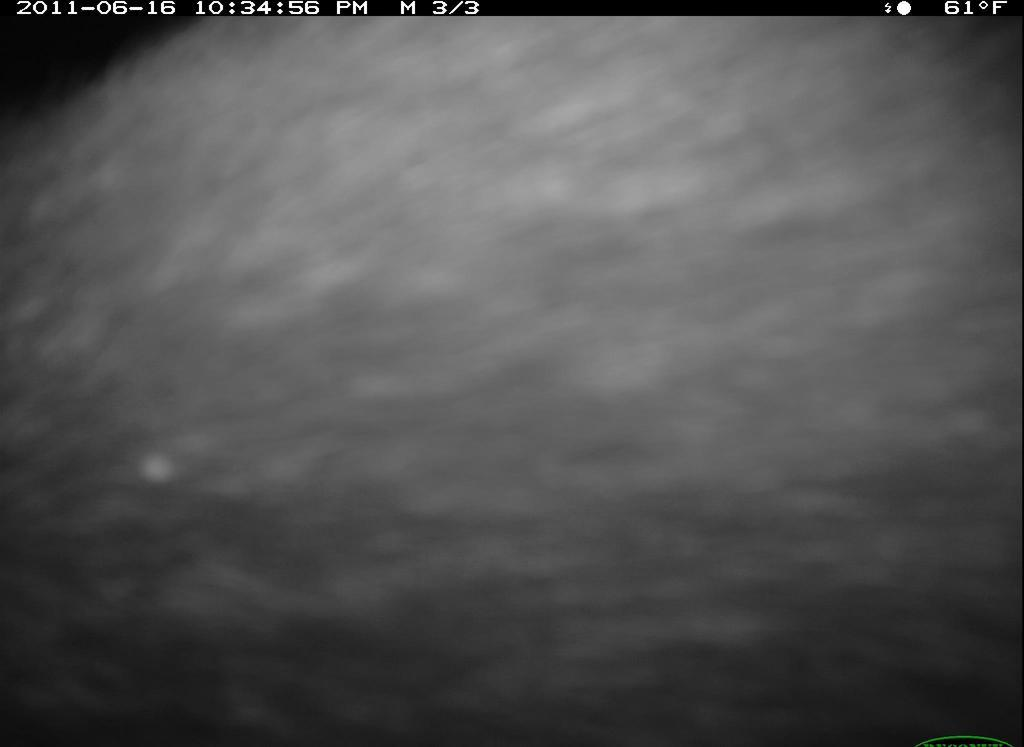raccoon: (3, 18, 1022, 747)
